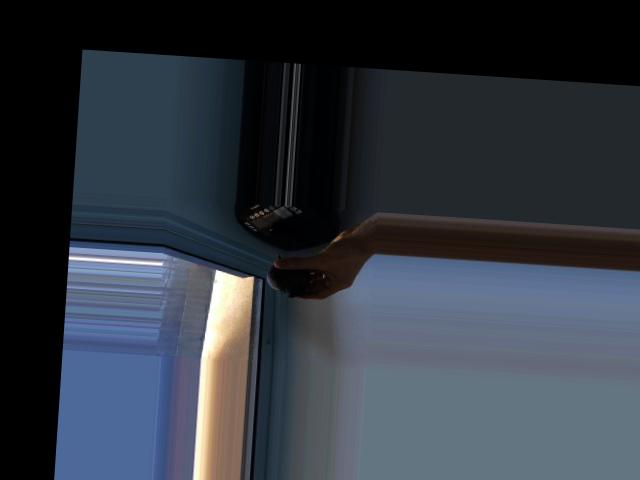beet: (265, 252, 316, 299)
